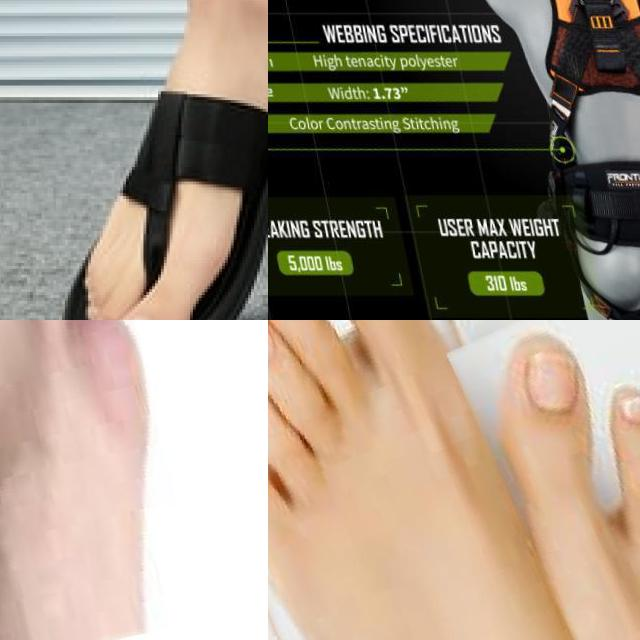Barefoots: (268, 320, 573, 640), (0, 320, 207, 640), (506, 331, 640, 640)
Harness: (548, 0, 640, 160)
